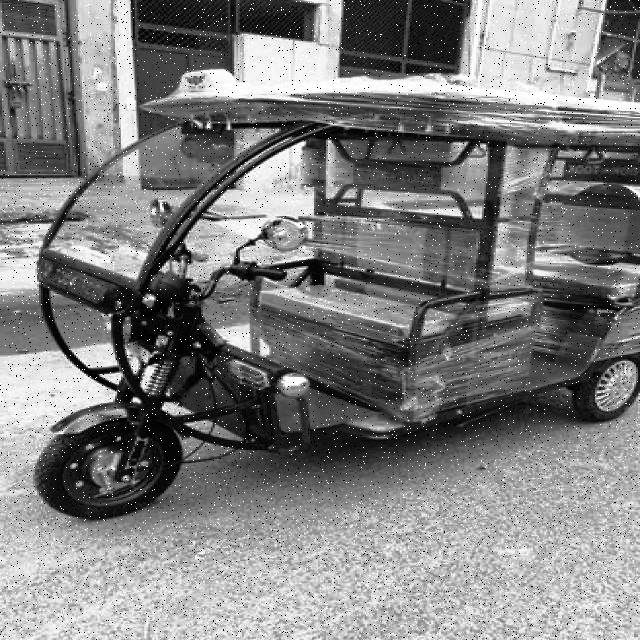Toto: (45, 79, 640, 521)
